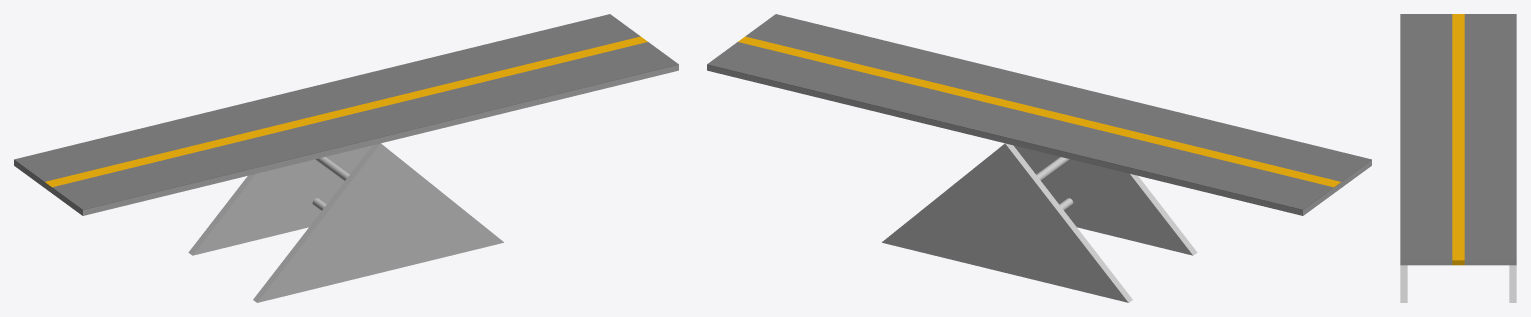
Rendered from RampStairsSeesaw_Seesaw.dae.
The picture shows the model from 3 angles, left to right: view 1: azimuth 30°, elevation 25°; view 2: azimuth 150°, elevation 25°; view 3: azimuth 270°, elevation 25°; orthographic projection. The views are drawn at different scales.
Parts seen in each view (by area): view 1: 68017c9e7b0c9c5ed3e7d90e (×5); view 2: 68017c9e7b0c9c5ed3e7d90e (×5); view 3: 68017c9e7b0c9c5ed3e7d90e (×5).
Part boxes in pixels (x1,y1,x2,y2): 68017c9e7b0c9c5ed3e7d90e (×5): (14, 14, 678, 302); 68017c9e7b0c9c5ed3e7d90e (×5): (707, 14, 1371, 302); 68017c9e7b0c9c5ed3e7d90e (×5): (1400, 14, 1516, 302).
Size of the model in its own units: 2 by 0.4 by 0.435.
